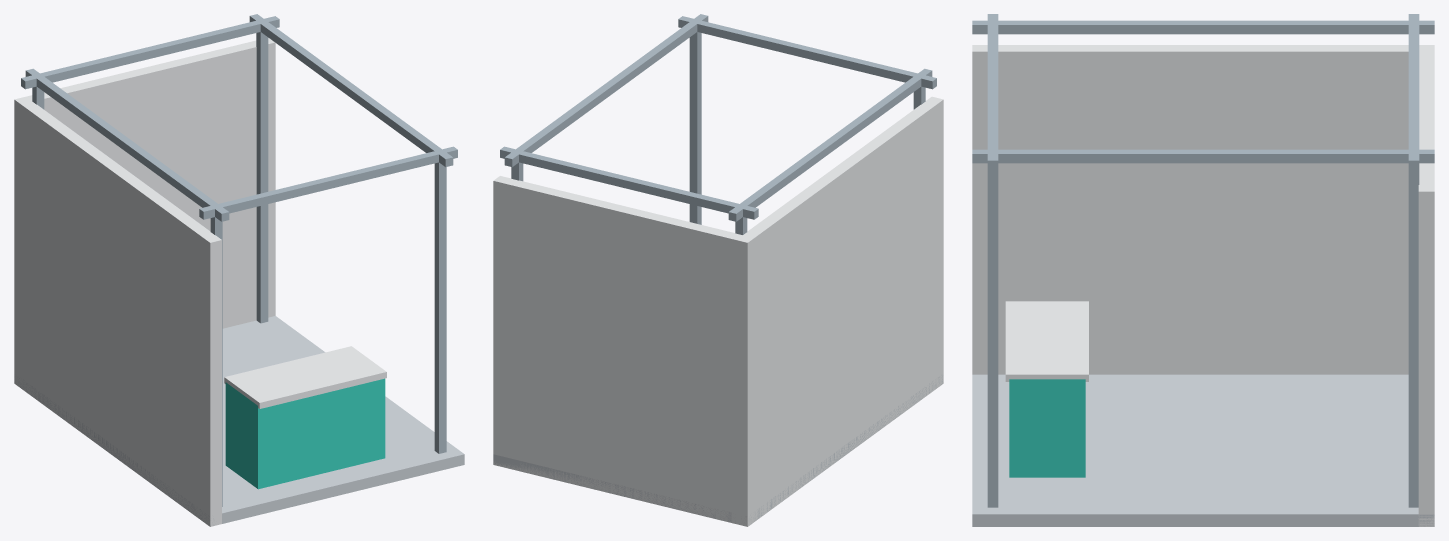
3 renders of one model, left to right at view 1: azimuth 30°, elevation 25°; view 2: azimuth 150°, elevation 25°; view 3: azimuth 270°, elevation 25°, orthographic. The views are drawn at different scales.
Parts seen in each view (by area): view 1: Exhibition Booth Concept; view 2: Exhibition Booth Concept; view 3: Exhibition Booth Concept.
Part boxes in pixels (x1,y1,x2,y2): Exhibition Booth Concept: (14,14,464,526); Exhibition Booth Concept: (493,14,943,526); Exhibition Booth Concept: (972,14,1434,526).
Size of the model in its own units: 3 by 3.49 by 4.
